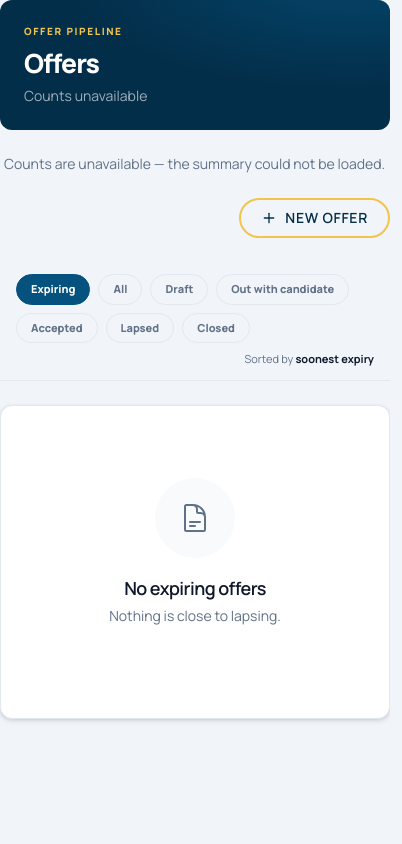
Test: Offer creation — validation › requires a base salary, because getTotalCompensation dereferences it server-side
This screenshot has width=402, height=844.
Click the button "New Offer": {"x": 315, "y": 218} [239,198,390,238]
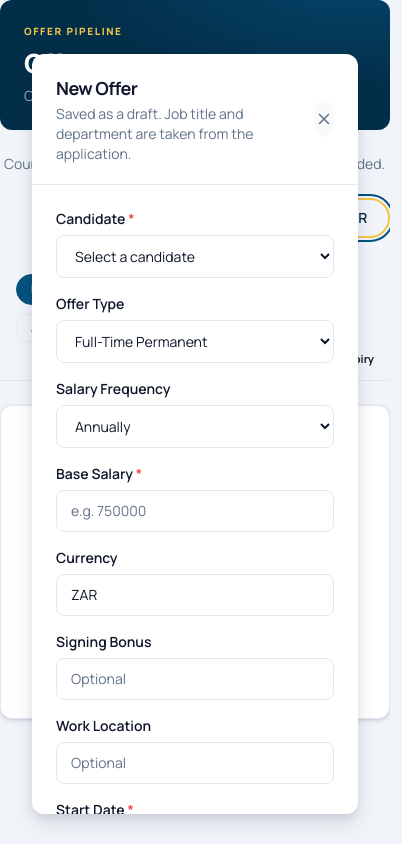
Select "Thandi Molefe -- Senior Developer" in the dropdown labelled "Candidate *": {"x": 195, "y": 257} [56,235,334,278]
(page scrolled)
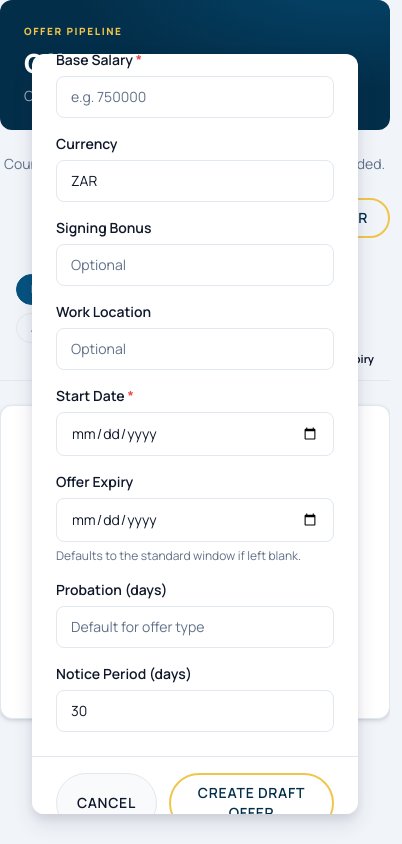
In the date field labelled "Start Date *": {"x": 195, "y": 434} [56,412,334,456], type "2026-10-01"
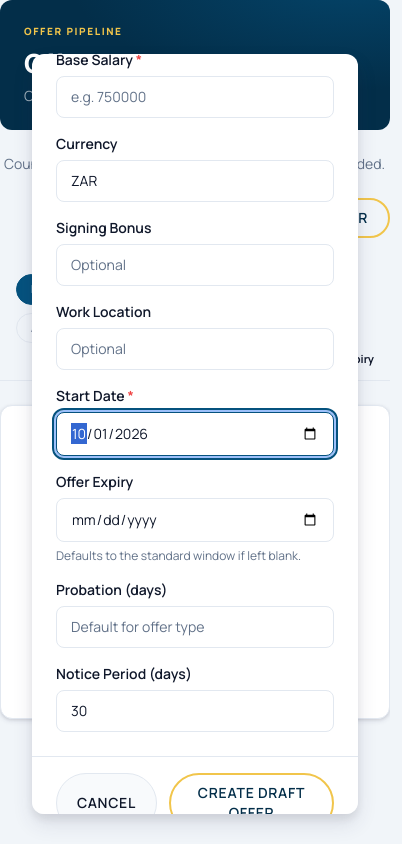
Click the button "Create Draft Offer": {"x": 252, "y": 803} [169,773,334,833]
(page scrolled)
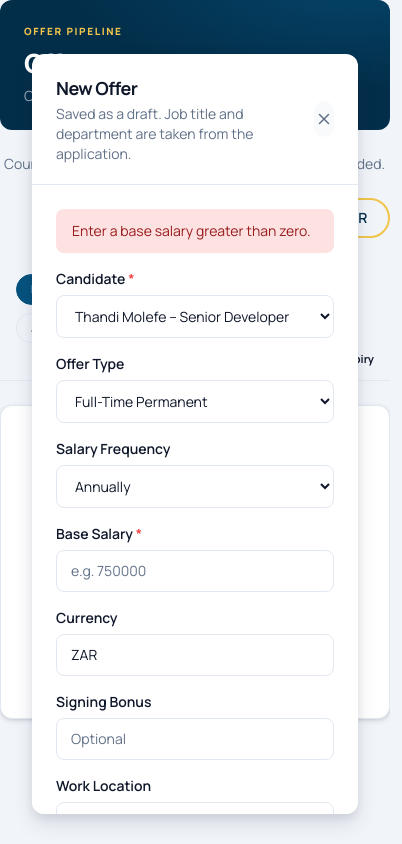
Expected: the text "Enter a base salary greater than zero." is shown, [56,209,334,253]
